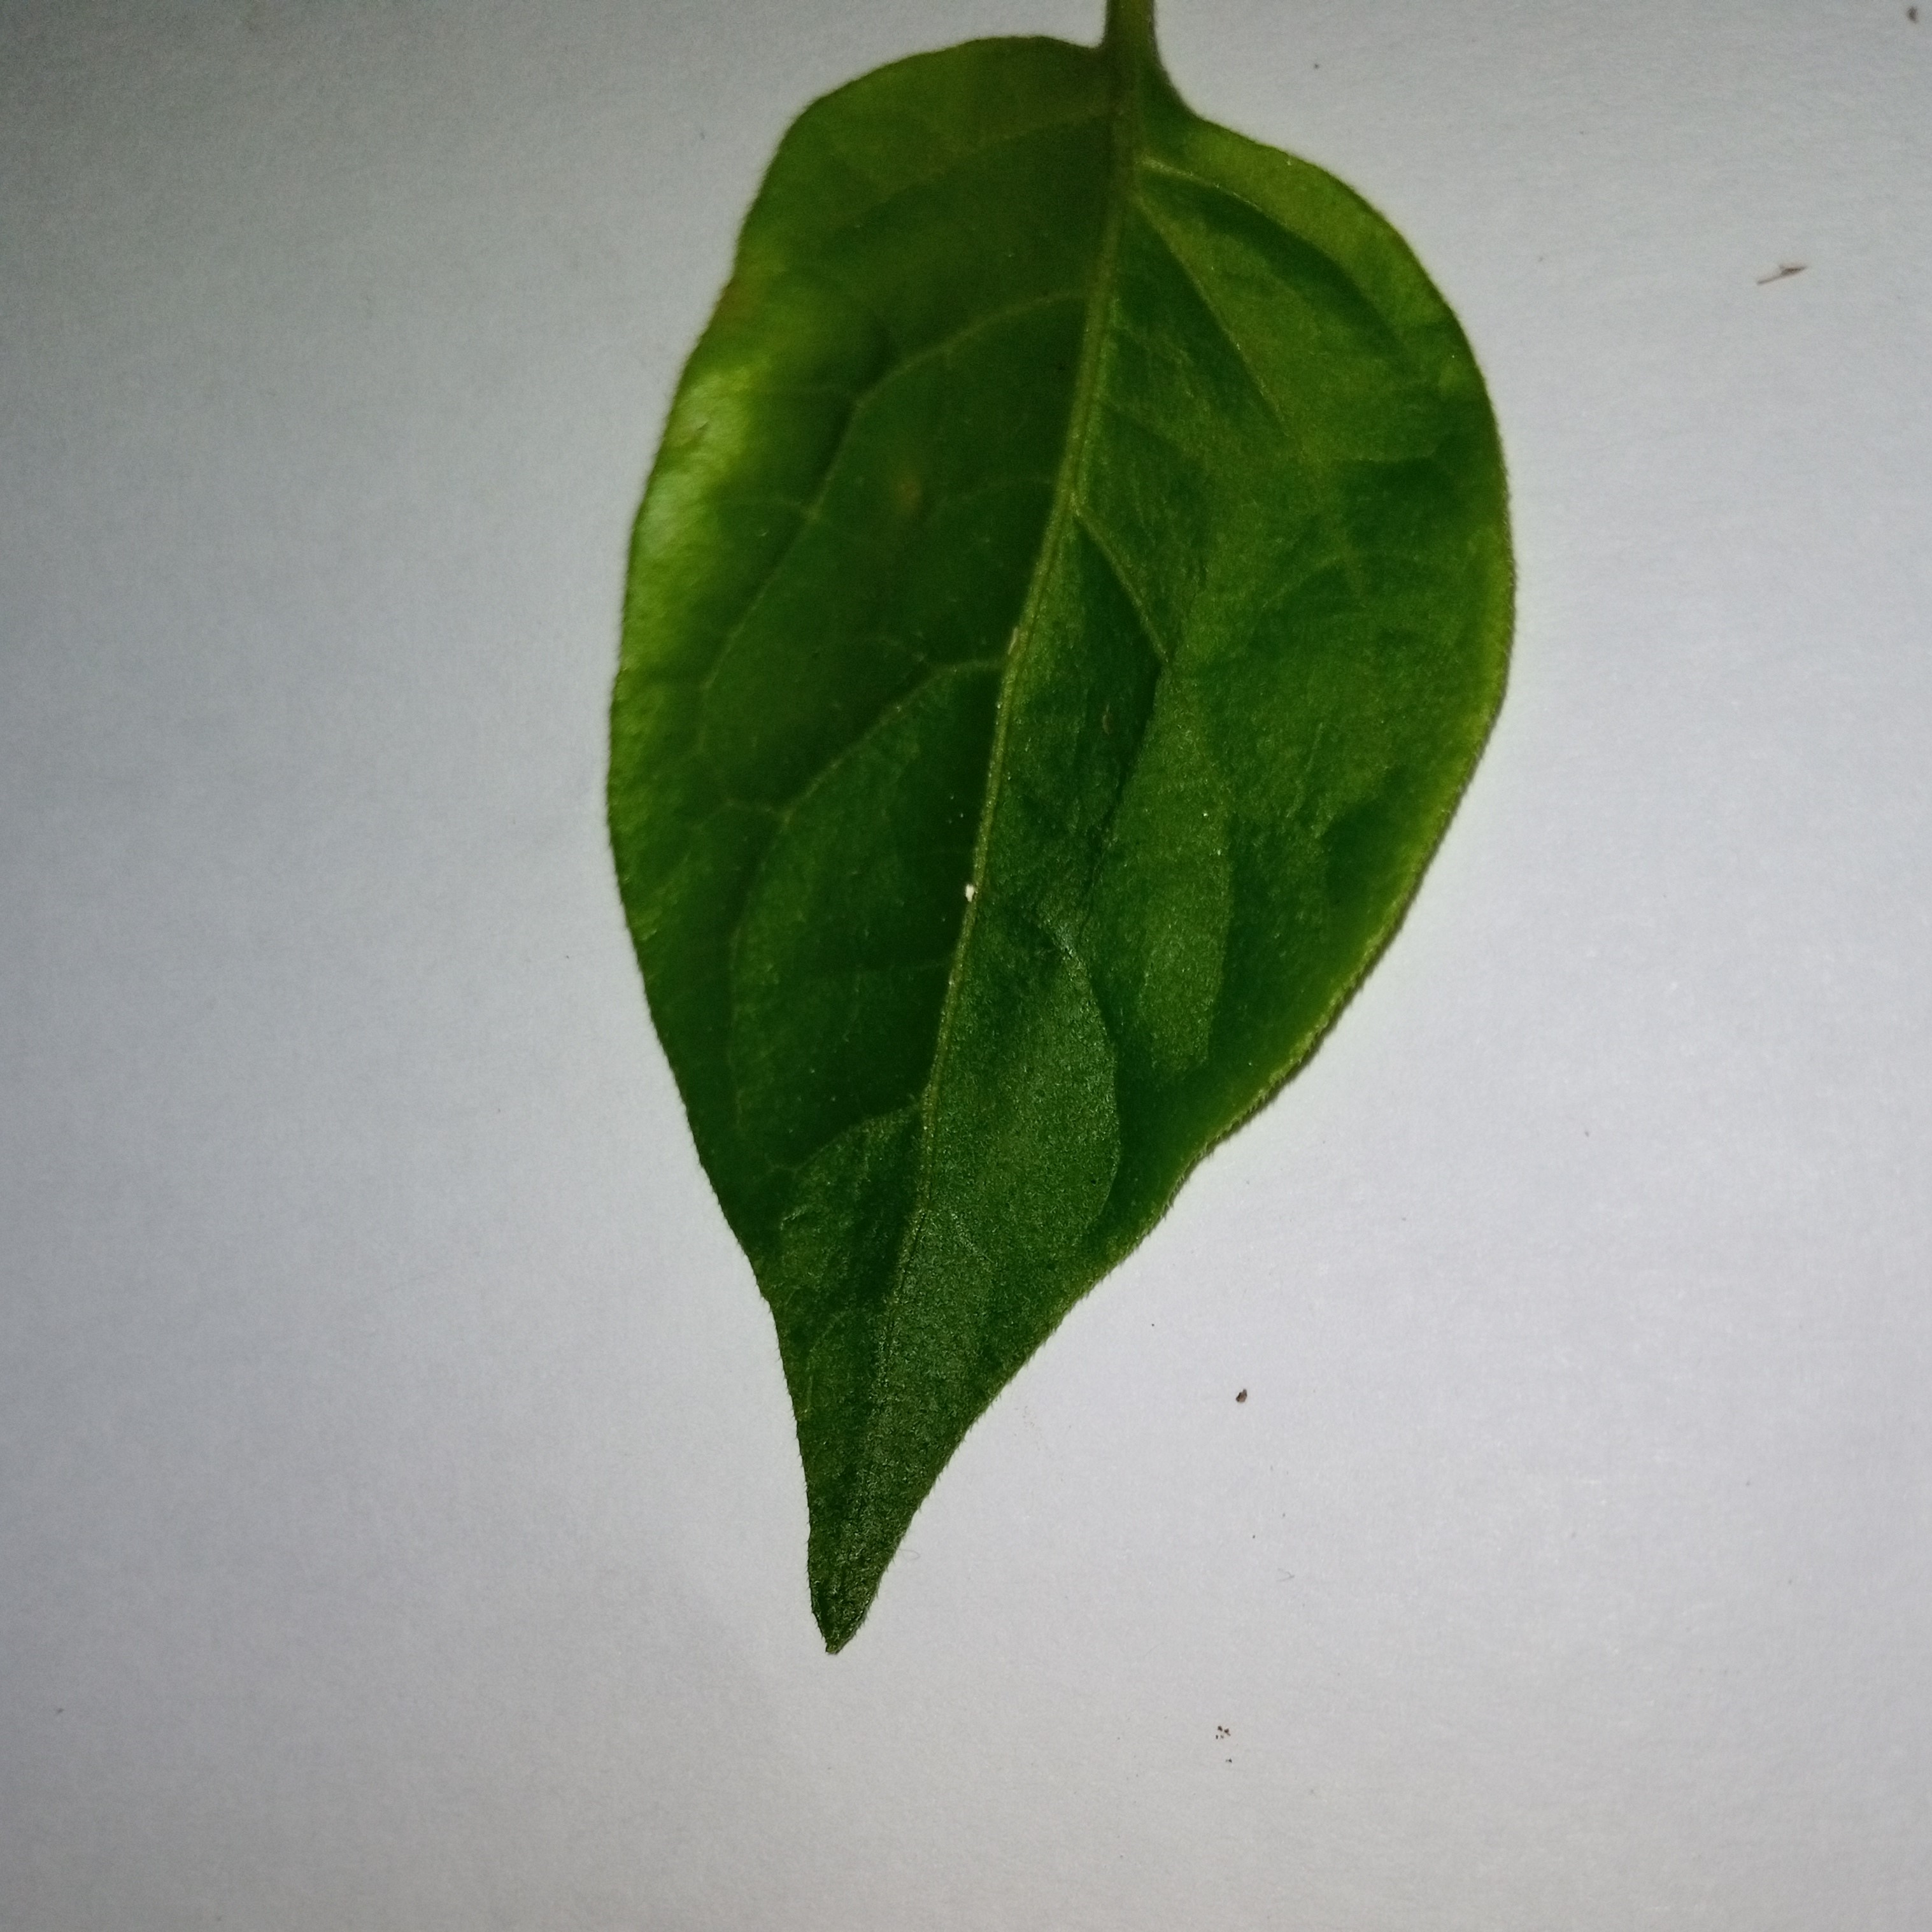Leaf: (476, 25, 1709, 1702)
